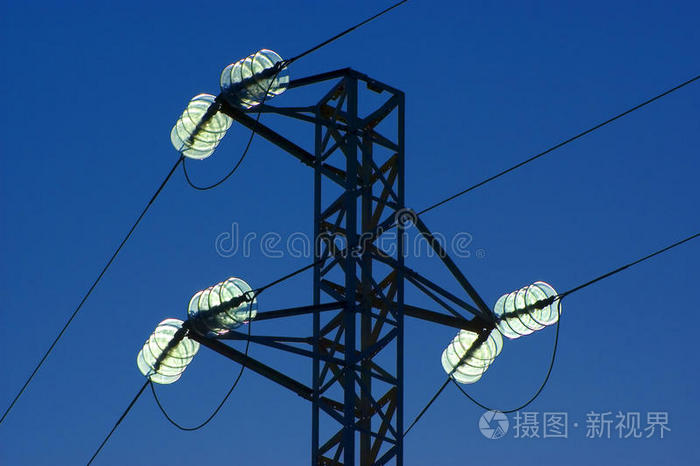insulator: (186, 274, 255, 339), (171, 93, 233, 158), (219, 50, 288, 108), (494, 282, 563, 338), (137, 319, 197, 382), (441, 326, 508, 382)
